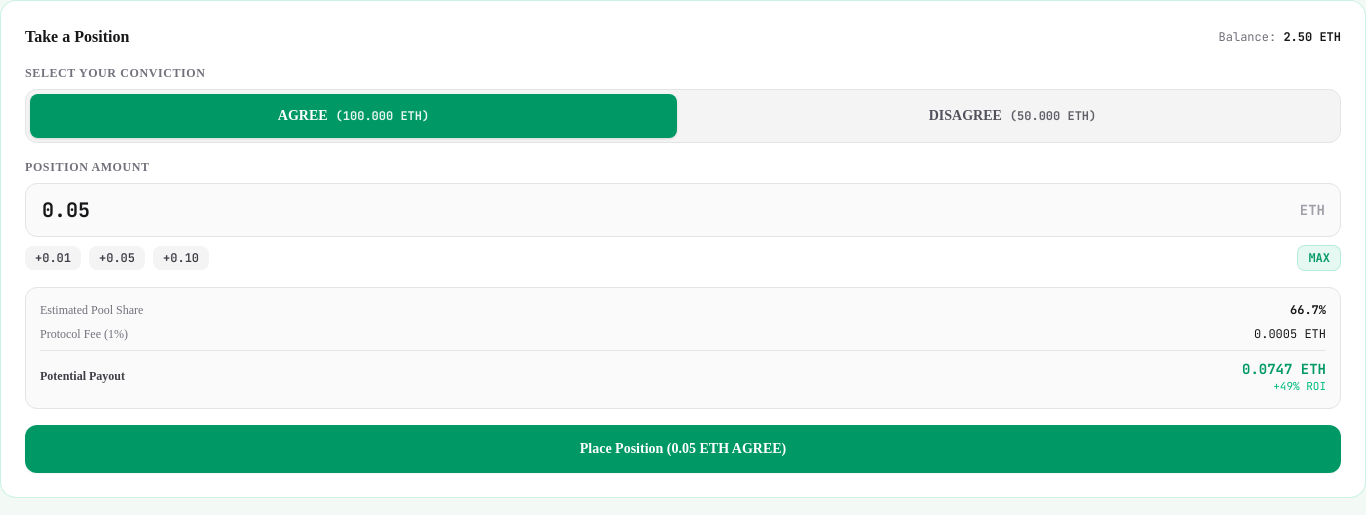
Test: PositionPanel Component › updates amount with preset and MAX buttons
The width and height of the screenshot is (1366, 515).
Click the button "+0.10".
click(181, 258)  # box left=153, top=246, right=209, bottom=270
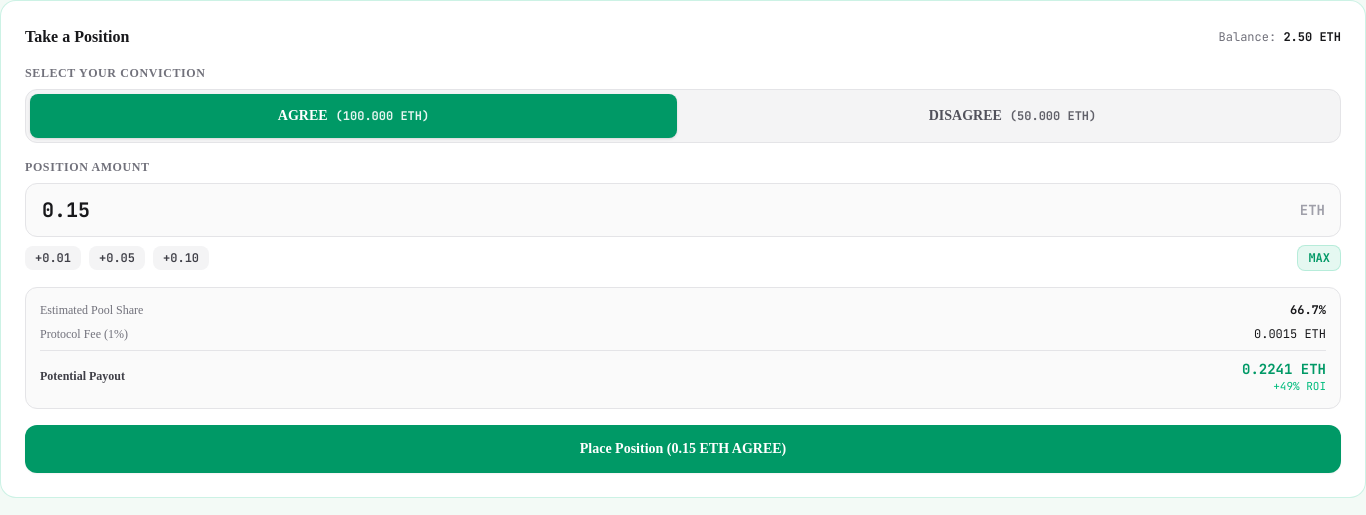
Now the field labelled "Position Amount" holds "0.15", box left=25, top=183, right=1341, bottom=237
Click the button "MAX".
click(1319, 258)  # box left=1297, top=245, right=1341, bottom=271
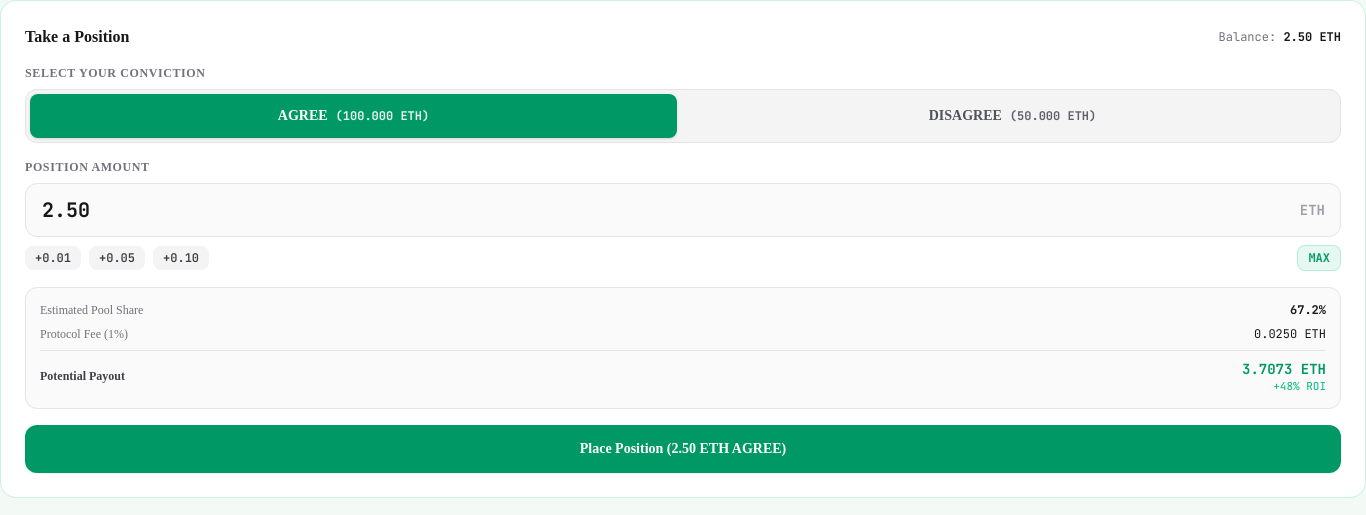
Now the field labelled "Position Amount" holds "2.50", box left=25, top=183, right=1341, bottom=237
